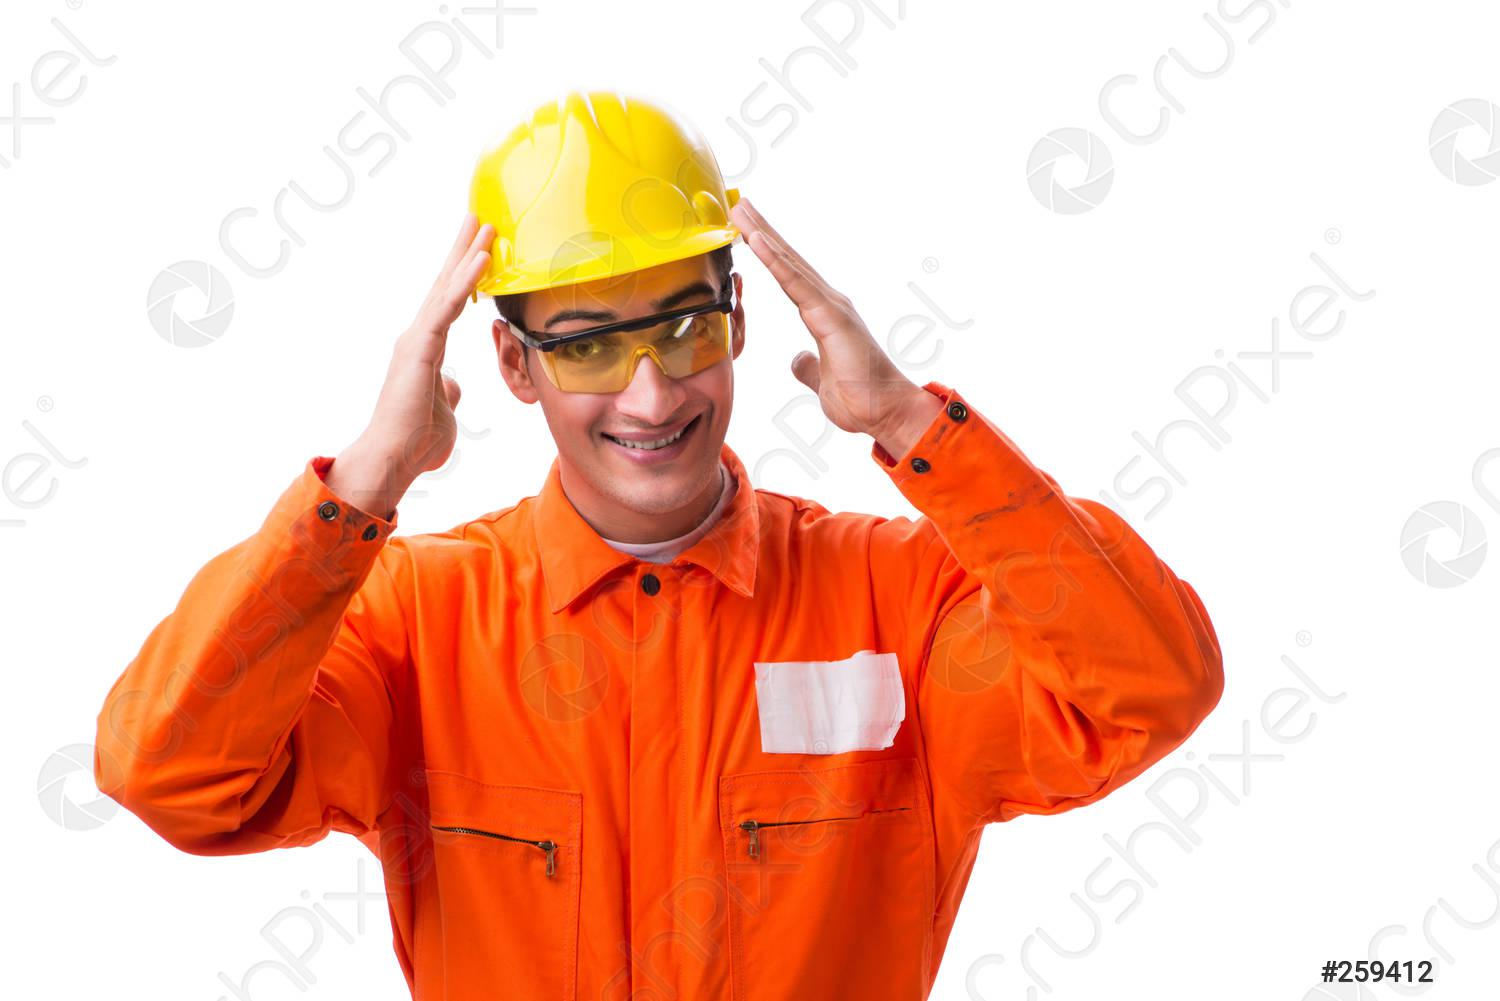hardhat: (470, 88, 750, 297)
worker: (97, 82, 1229, 999)
